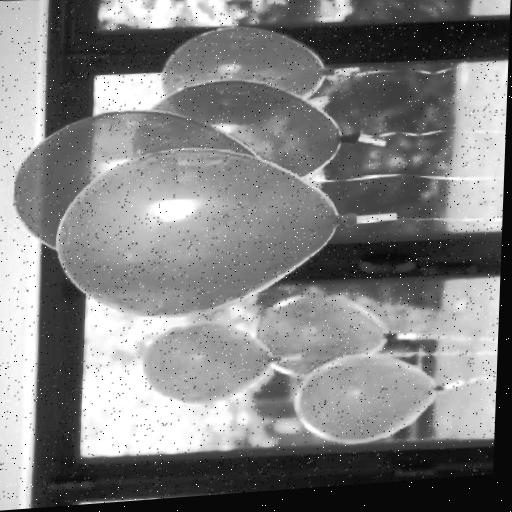balloon: (51, 129, 360, 330), (4, 93, 268, 264), (126, 64, 352, 194), (155, 12, 337, 121), (290, 345, 448, 452), (134, 312, 280, 409), (253, 283, 395, 382)
